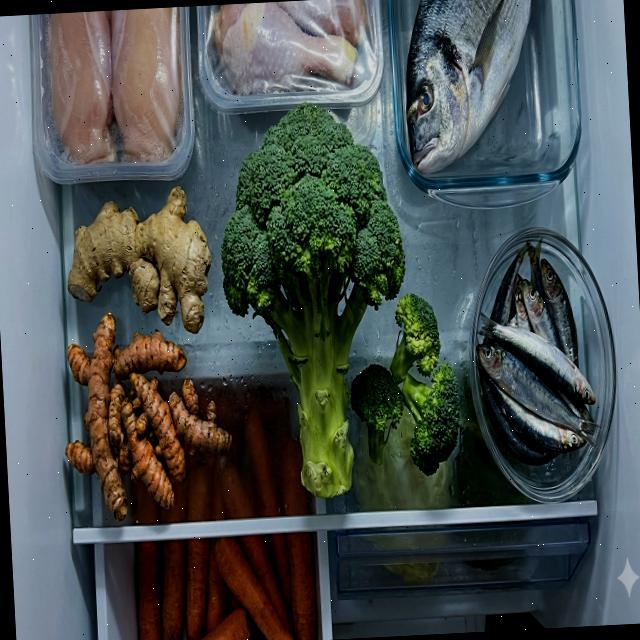brocolli: (213, 95, 464, 504)
carrot: (125, 386, 319, 640)
chicken: (46, 7, 188, 167), (212, 0, 371, 96)
fish: (470, 234, 604, 468), (399, 0, 544, 175)
ginger: (63, 185, 216, 341)
turmeric: (57, 304, 236, 526)
